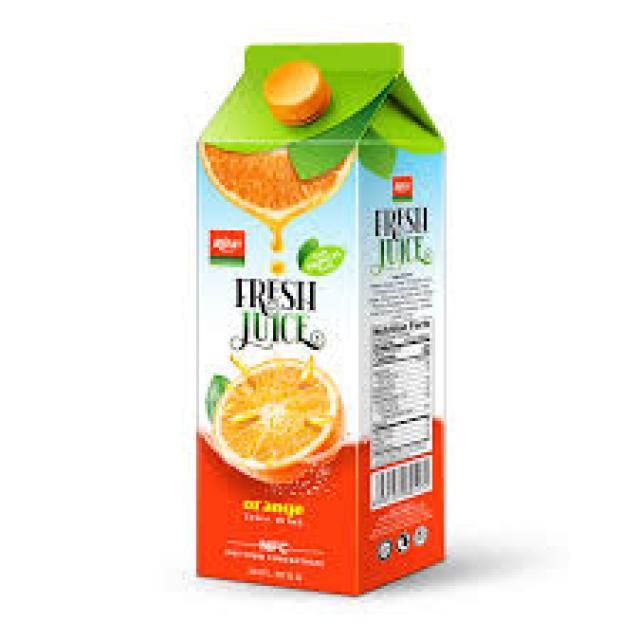non_white_jug: (178, 24, 462, 613)
